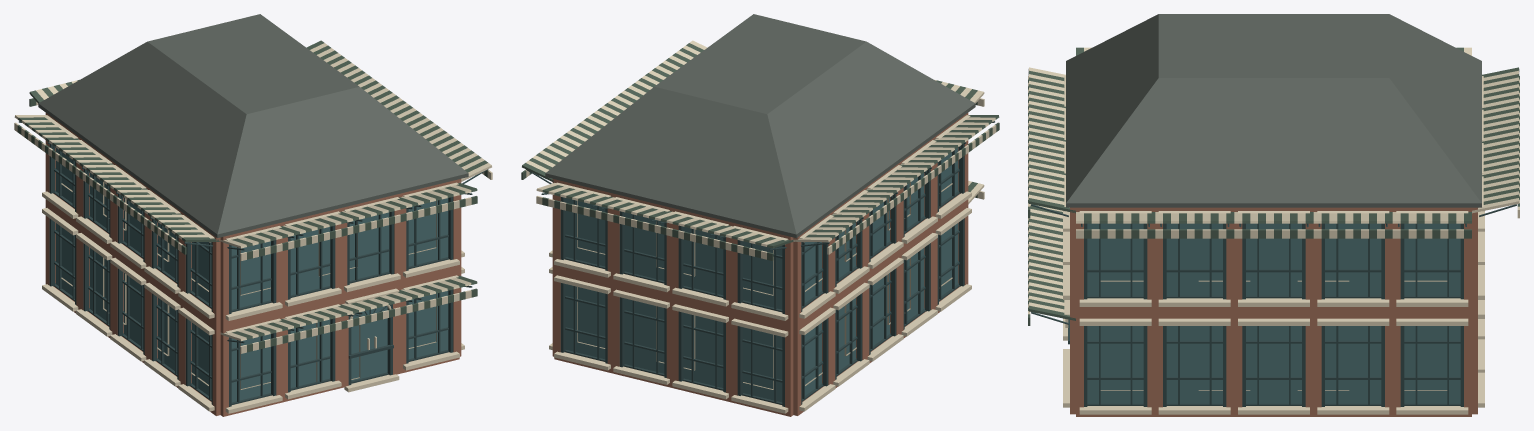
The model's file is neighborhood-bistro.glb.
3 renders of one model, left to right at view 1: azimuth 30°, elevation 25°; view 2: azimuth 150°, elevation 25°; view 3: azimuth 270°, elevation 25°, orthographic. The views are drawn at different scales.
Parts seen in each view (by area): view 1: Roof main.007, main/north/0/6250/glass.004, main/north/1/8750/glass.003, main/north/0/8750/glass.005, main/north/0/1250/glass.005, main/north/1/1250/glass.003, main/north/0/3750/glass.005, main/north/1/6250/glass.003, main/north/1/3750/glass.003, main/north/0/1250/wall.005, main/north/0/8750/wall.005, main/north/0/6250/wall.005 (+92 smaller); view 2: Roof main.007, main/south/0/8750/glass.005, main/south/0/3750/glass.005, main/south/0/6250/glass.005, main/south/0/1250/glass.005, main/south/0/1250/wall.005, main/south/1/8750/glass.003, main/south/1/1250/glass.003, main/south/1/6250/glass.003, main/south/1/3750/glass.003, main/south/0/8750/wall.005, main/south/0/6250/wall.005 (+84 smaller); view 3: Roof main.007, main/east/0/1000/glass.004, main/east/0/9000/glass.004, main/east/0/5000/glass.001, main/east/0/3000/glass.001, main/east/0/7000/glass.001, main/east/1/1000/glass.004, main/east/1/9000/glass.004, main/east/1/5000/glass.004, main/east/1/3000/glass.004, main/east/1/7000/glass.004, main/east/0/5000/wall.001 (+65 smaller).
Part boxes in pixels (x1,y1,x2,y2): Roof main.007: (38, 14, 468, 238); main/north/0/6250/glass.004: (351, 306, 387, 380); main/north/1/8750/glass.003: (408, 198, 448, 266); main/north/0/8750/glass.005: (408, 291, 448, 359); main/north/0/1250/glass.005: (231, 334, 270, 402); main/north/1/1250/glass.003: (231, 241, 270, 309); main/north/0/3750/glass.005: (290, 319, 330, 387); main/north/1/6250/glass.003: (349, 212, 389, 280); main/north/1/3750/glass.003: (290, 227, 330, 295); main/north/0/1250/wall.005: (220, 310, 282, 416); main/north/0/8750/wall.005: (400, 266, 459, 373); main/north/0/6250/wall.005: (341, 281, 400, 387); Roof main.007: (545, 14, 975, 238); main/south/0/8750/glass.005: (565, 284, 605, 359); main/south/0/3750/glass.005: (683, 313, 723, 387); main/south/0/6250/glass.005: (624, 298, 664, 373); main/south/0/1250/glass.005: (743, 327, 782, 402); main/south/0/1250/wall.005: (731, 310, 793, 416); main/south/1/8750/glass.003: (565, 198, 605, 266); main/south/1/1250/glass.003: (743, 241, 782, 309); main/south/1/6250/glass.003: (624, 212, 664, 280); main/south/1/3750/glass.003: (683, 227, 723, 295); main/south/0/8750/wall.005: (554, 266, 613, 373); main/south/0/6250/wall.005: (613, 281, 672, 387); Roof main.007: (1066, 14, 1481, 207); main/east/0/1000/glass.004: (1404, 326, 1460, 403); main/east/0/9000/glass.004: (1087, 326, 1143, 403); main/east/0/5000/glass.001: (1246, 326, 1301, 403); main/east/0/3000/glass.001: (1325, 326, 1381, 403); main/east/0/7000/glass.001: (1166, 326, 1222, 403); main/east/1/1000/glass.004: (1404, 223, 1460, 295); main/east/1/9000/glass.004: (1087, 223, 1143, 295); main/east/1/5000/glass.004: (1246, 223, 1301, 295); main/east/1/3000/glass.004: (1325, 223, 1381, 295); main/east/1/7000/glass.004: (1166, 223, 1222, 295); main/east/0/5000/wall.001: (1234, 309, 1313, 416).
Size of the model in its own units: 10.41 by 8.5 by 12.41.
